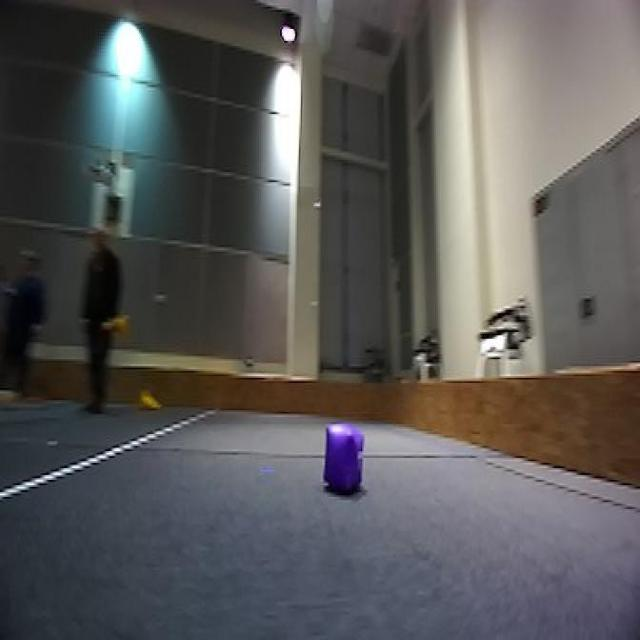frc_cone: (104, 308, 133, 342), (136, 388, 159, 414)
frc_cube: (322, 422, 365, 495)
